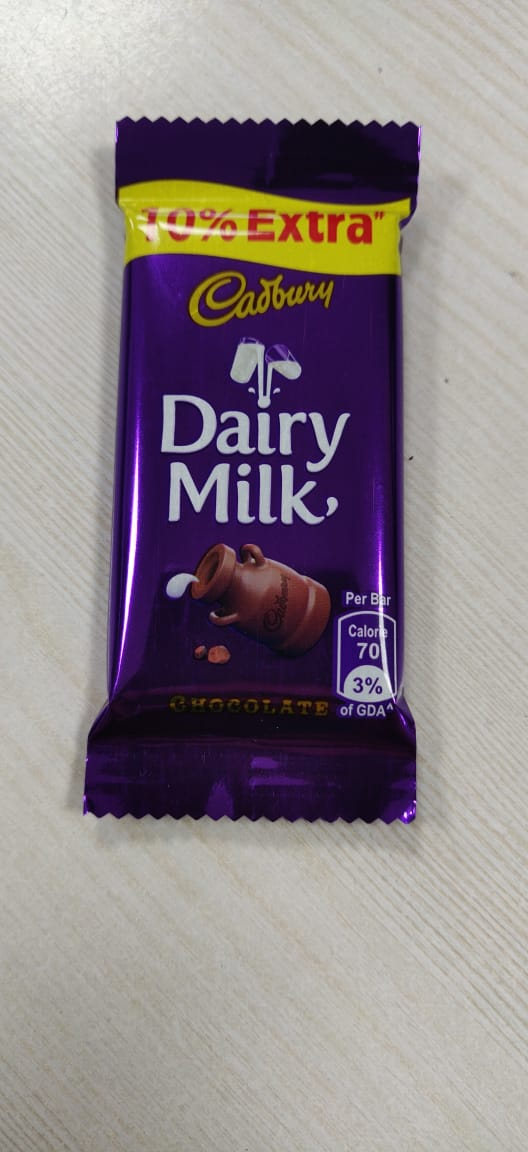dairy milk: (89, 106, 434, 899)
